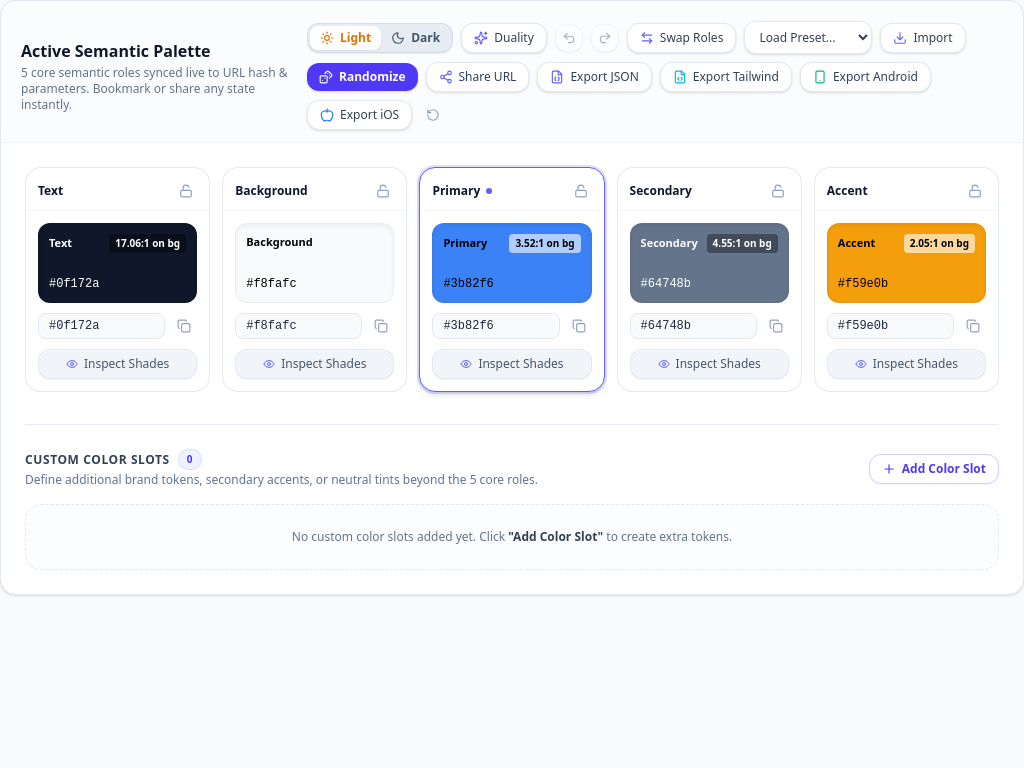
Test: PaletteBar (TT-008) › opens Share URL modal when clicking Share URL button
Click the button labelled "Share URL".
click(477, 77)  # box [426,62,529,92]
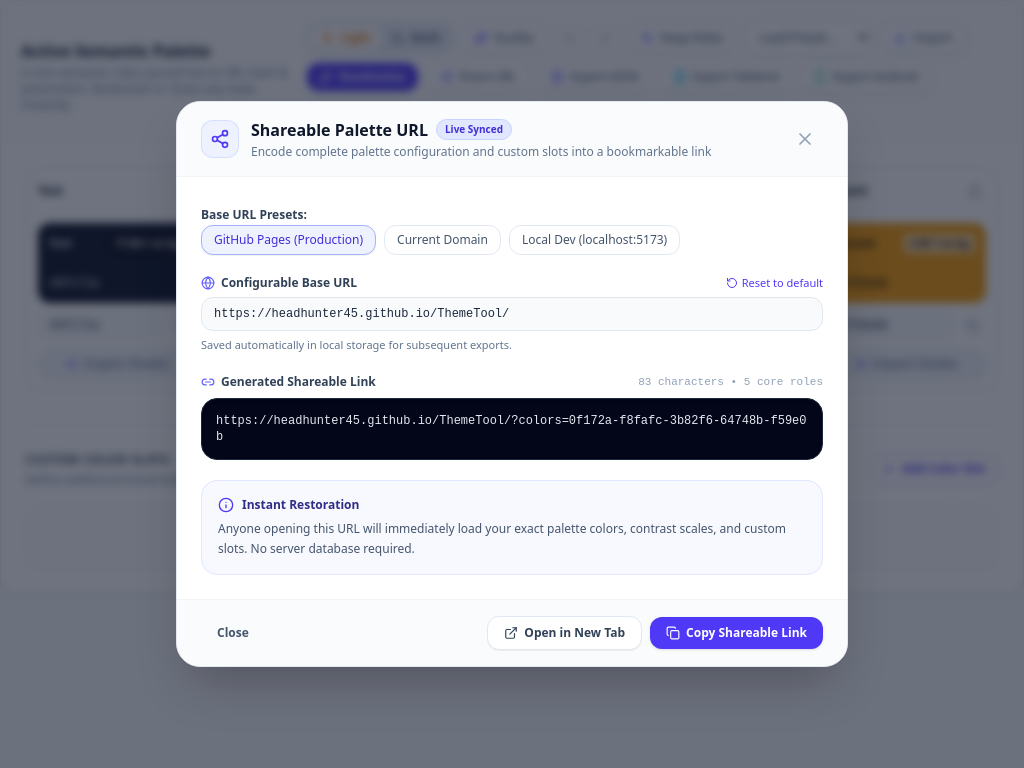
Check: the dialog is shown
Check: the heading "Shareable Palette URL" is shown, box [251,118,428,142]
